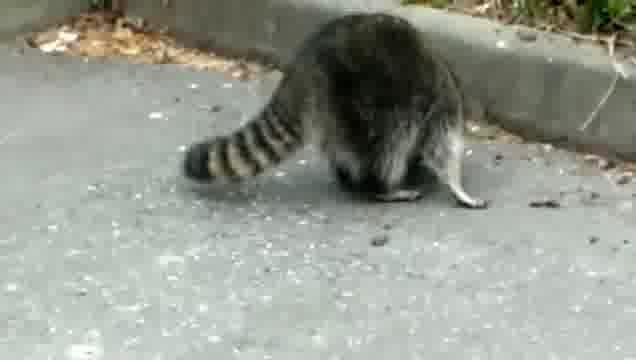raccoon: (187, 13, 489, 212)
